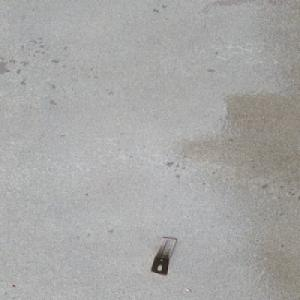MetalPart: (148, 236, 178, 276)
